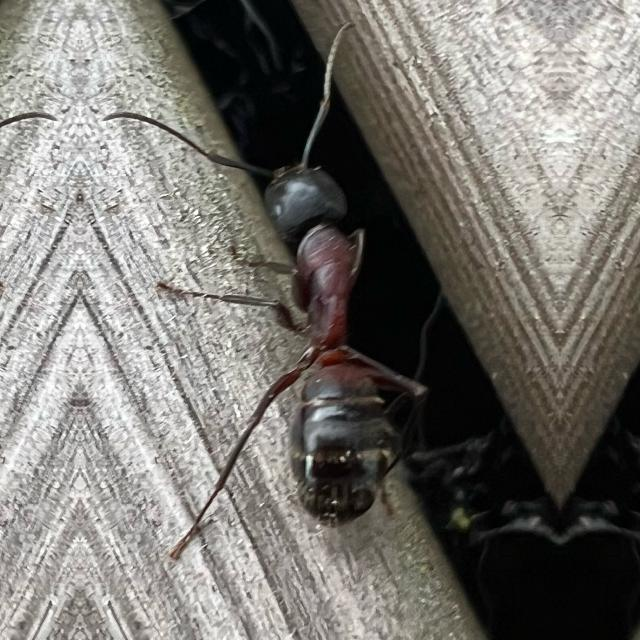Camponotus: (207, 102, 436, 560)
